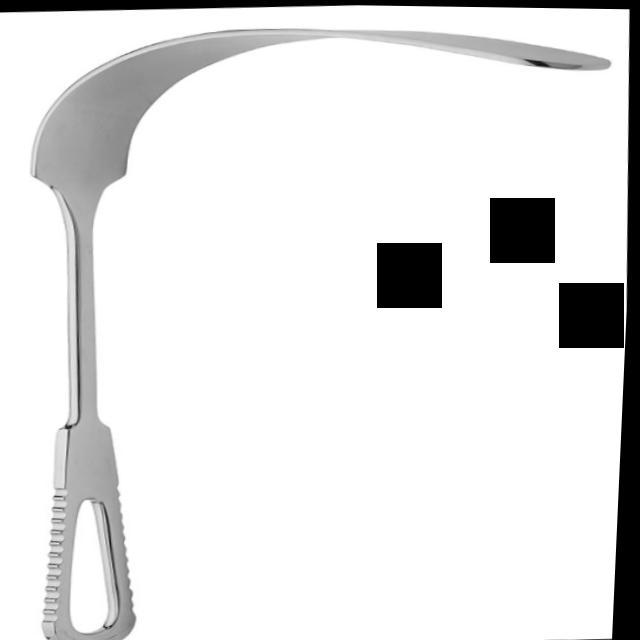Kelly Retractor: (0, 1, 640, 640)
